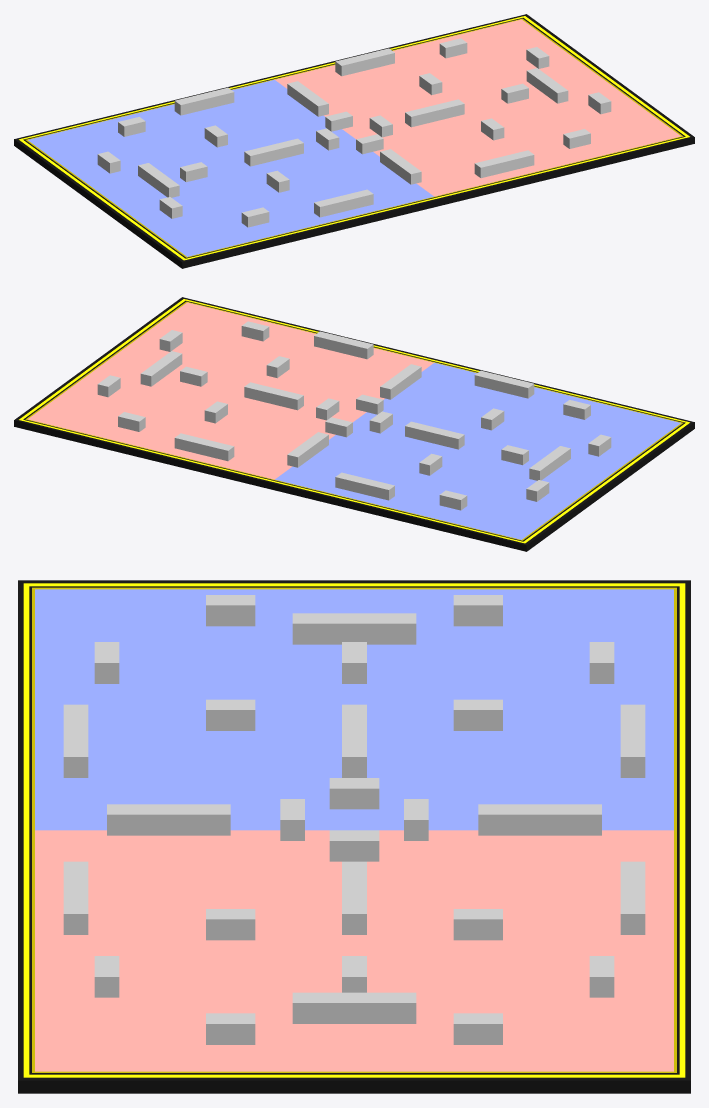
File: ufo CTF map3.fbx
3 renders of one model, top to bottom at view 1: azimuth 30°, elevation 25°; view 2: azimuth 150°, elevation 25°; view 3: azimuth 270°, elevation 25°, orthographic. The views are drawn at different scales.
Visible parts, largest first — view 1: Obstacle, Obstacle.001; view 2: Obstacle, Obstacle.001; view 3: Obstacle, Obstacle.001.
Boxes of the visible parts, x1,y1,x2,y2 form: Obstacle: [14, 14, 694, 268]; Obstacle.001: [97, 38, 611, 227]; Obstacle: [14, 297, 694, 551]; Obstacle.001: [97, 321, 611, 510]; Obstacle: [18, 580, 690, 1093]; Obstacle.001: [63, 595, 645, 1044].
Size of the model in its own units: 19136 by 609 by 10872.
